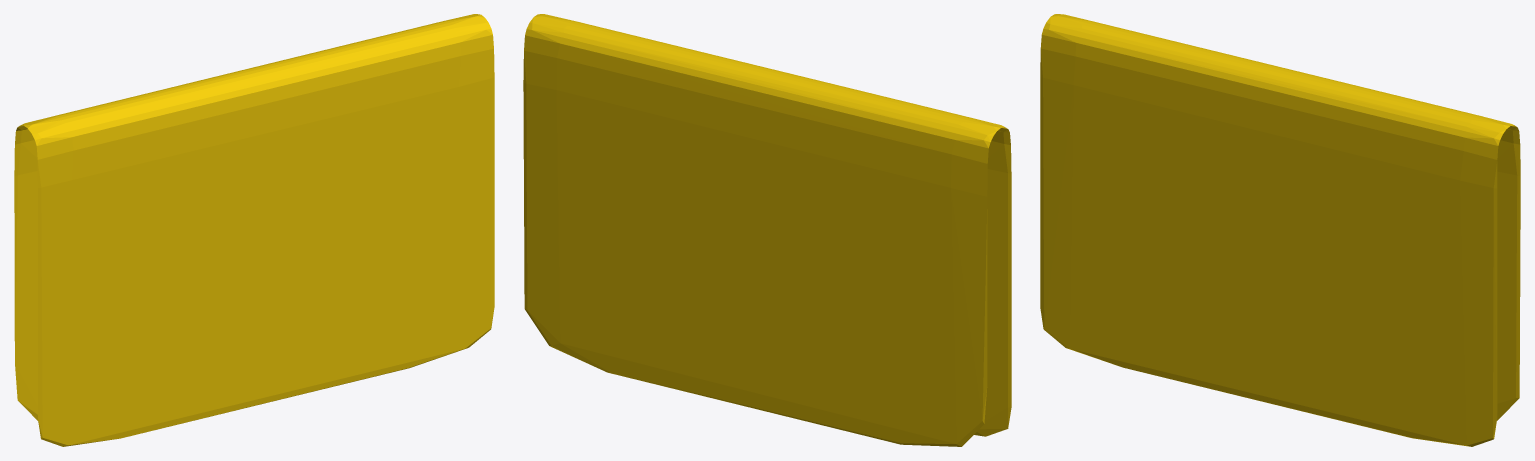
The model's file is Towel01.fbx.
3 renders of one model, left to right at view 1: azimuth 30°, elevation 25°; view 2: azimuth 150°, elevation 25°; view 3: azimuth 330°, elevation 25°, orthographic.
Parts seen in each view (by area): view 1: Towel01LowPoly; view 2: Towel01LowPoly; view 3: Towel01LowPoly.
Boxes of the visible parts, x1=… form: Towel01LowPoly: x1=14, y1=14, x2=494, y2=446; Towel01LowPoly: x1=523, y1=14, x2=1011, y2=446; Towel01LowPoly: x1=1040, y1=14, x2=1520, y2=446.
Bounding box in the file's own units: 36.69 × 24.88 × 3.46.
